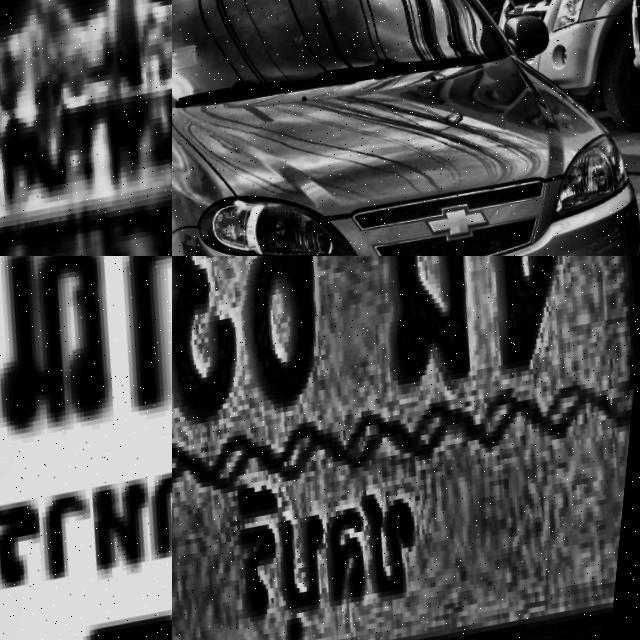license-plate: (172, 256, 640, 640), (0, 256, 172, 640), (0, 0, 172, 256)
